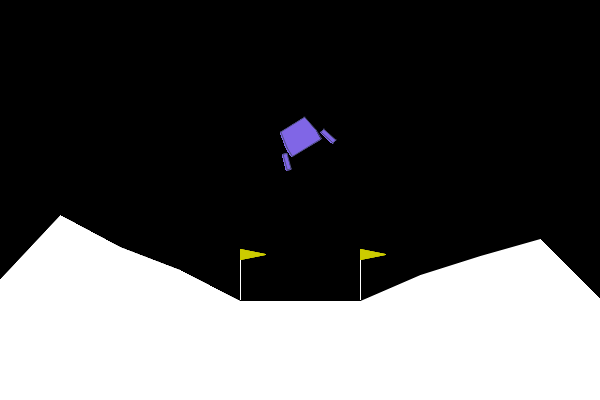lander: (266, 107, 338, 173)
